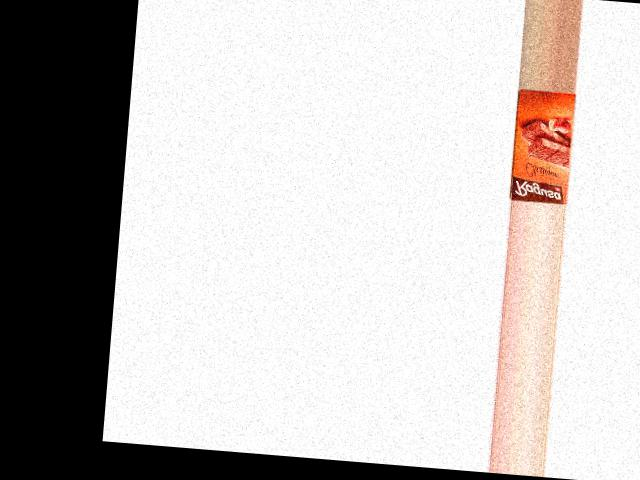chocolate: (506, 87, 582, 204)
